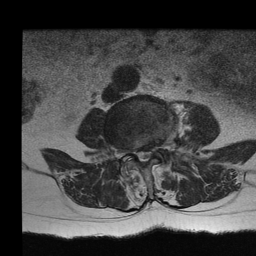CCS_stenosis: (141, 143, 147, 171)
LFS_stenosis: (153, 136, 161, 158)
LLS_stenosis: (147, 143, 153, 165)
RFS_severe_stenosis: (127, 140, 134, 161)
RLS_stenosis: (134, 142, 141, 166)
